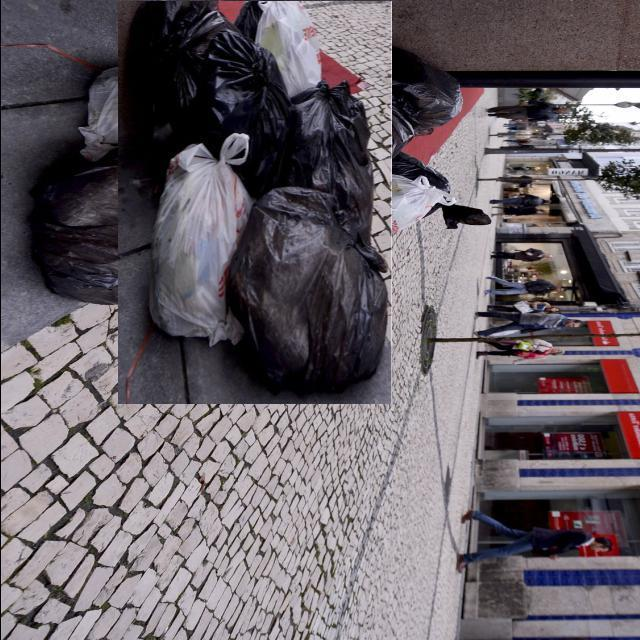Trashbag: (125, 13, 297, 184), (235, 200, 385, 381), (293, 88, 390, 214)
